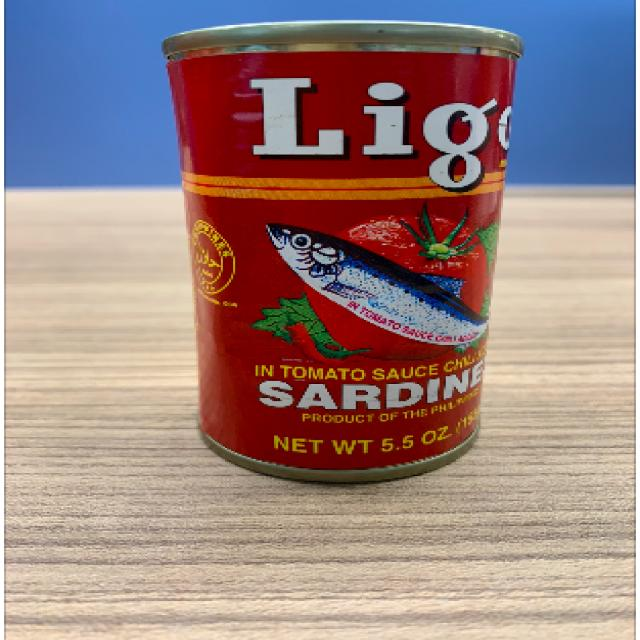object_name: (170, 25, 497, 459)
